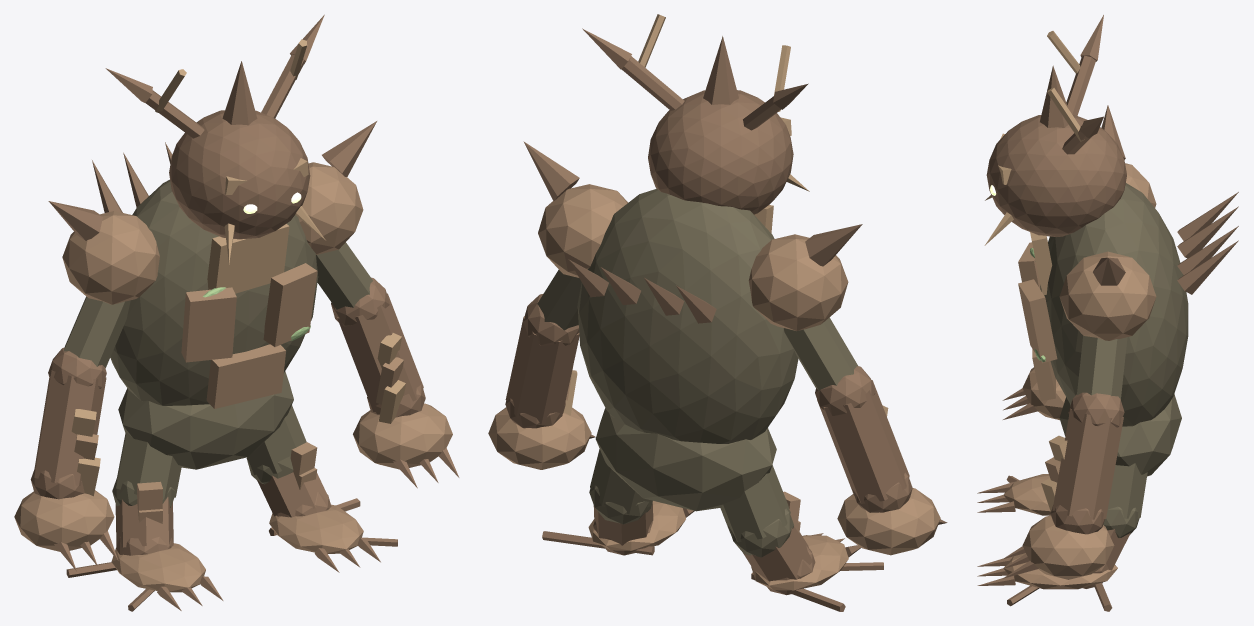
Rendered from 01_sylvan_juggernaut.glb.
The picture shows the model from 3 angles, left to right: view 1: azimuth 30°, elevation 25°; view 2: azimuth 150°, elevation 25°; view 3: azimuth 270°, elevation 25°; orthographic projection. The views are drawn at different scales.
Parts seen in each view (by area): view 1: wood_core_torso, wooden_carapace_head, root_hip_mass, forearm_bark_-1, bark_shoulder_mass_-1, forearm_bark_1, massive_wooden_fist_-1, massive_wooden_fist_1, bark_shoulder_mass_1, ablative_chest_bark_plate_0, ablative_chest_bark_plate_3, ablative_chest_bark_plate_1 (+19 smaller); view 2: wood_core_torso, wooden_carapace_head, root_hip_mass, forearm_bark_-1, bark_shoulder_mass_-1, forearm_bark_1, bark_shoulder_mass_1, massive_wooden_fist_-1, massive_wooden_fist_1, thigh_trunk_-1, upper_arm_root_-1, thigh_trunk_1 (+14 smaller); view 3: wood_core_torso, wooden_carapace_head, forearm_bark_1, bark_shoulder_mass_1, massive_wooden_fist_1, root_hip_mass, upper_arm_root_1, thigh_trunk_1, ablative_chest_bark_plate_2, rooted_foot_1, rooted_foot_-1, massive_wooden_fist_-1 (+17 smaller).
Part boxes in pixels (left/top/right/bottom): wood_core_torso: left=110, top=179, right=318, bottom=405; wooden_carapace_head: left=169, top=110, right=310, bottom=239; root_hip_mass: left=118, top=371, right=293, bottom=469; forearm_bark_-1: left=30, top=347, right=106, bottom=499; bark_shoulder_mass_-1: left=62, top=211, right=159, bottom=304; forearm_bark_1: left=331, top=277, right=425, bottom=417; massive_wooden_fist_-1: left=14, top=490, right=114, bottom=551; massive_wooden_fist_1: left=353, top=403, right=452, bottom=469; bark_shoulder_mass_1: left=298, top=162, right=363, bottom=254; ablative_chest_bark_plate_0: left=207, top=224, right=289, bottom=293; ablative_chest_bark_plate_3: left=206, top=344, right=285, bottom=408; ablative_chest_bark_plate_1: left=181, top=287, right=236, bottom=362; wood_core_torso: left=577, top=188, right=798, bottom=443; wooden_carapace_head: left=648, top=90, right=793, bottom=214; root_hip_mass: left=595, top=408, right=776, bottom=511; forearm_bark_-1: left=815, top=366, right=912, bottom=512; bark_shoulder_mass_-1: left=748, top=234, right=848, bottom=330; forearm_bark_1: left=505, top=293, right=579, bottom=428; bark_shoulder_mass_1: left=538, top=184, right=628, bottom=277; massive_wooden_fist_-1: left=837, top=488, right=940, bottom=555; massive_wooden_fist_1: left=488, top=407, right=591, bottom=469; thigh_trunk_-1: left=720, top=465, right=793, bottom=557; upper_arm_root_-1: left=784, top=317, right=857, bottom=391; thigh_trunk_1: left=589, top=449, right=652, bottom=524; wood_core_torso: left=1040, top=183, right=1188, bottom=426; wooden_carapace_head: left=986, top=115, right=1126, bottom=236; forearm_bark_1: left=1050, top=392, right=1124, bottom=534; bark_shoulder_mass_1: left=1059, top=251, right=1156, bottom=340; massive_wooden_fist_1: left=1022, top=515, right=1114, bottom=579; root_hip_mass: left=1059, top=394, right=1181, bottom=476; upper_arm_root_1: left=1077, top=335, right=1127, bottom=399; thigh_trunk_1: left=1103, top=463, right=1147, bottom=537; ablative_chest_bark_plate_2: left=1018, top=279, right=1057, bottom=363; rooted_foot_1: left=1003, top=553, right=1117, bottom=589; rooted_foot_-1: left=1003, top=474, right=1050, bottom=515; massive_wooden_fist_-1: left=1022, top=367, right=1065, bottom=420.
Size of the model in its own units: 3.68 by 4.24 by 2.06.
